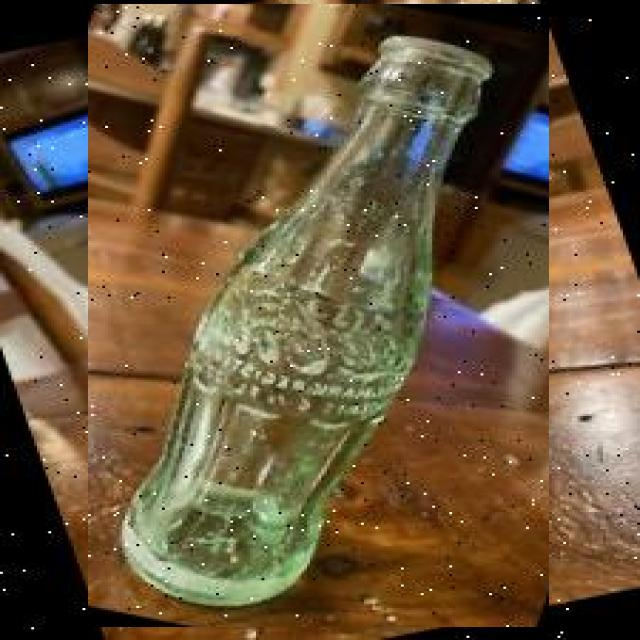coca-cola: (88, 4, 549, 627)
